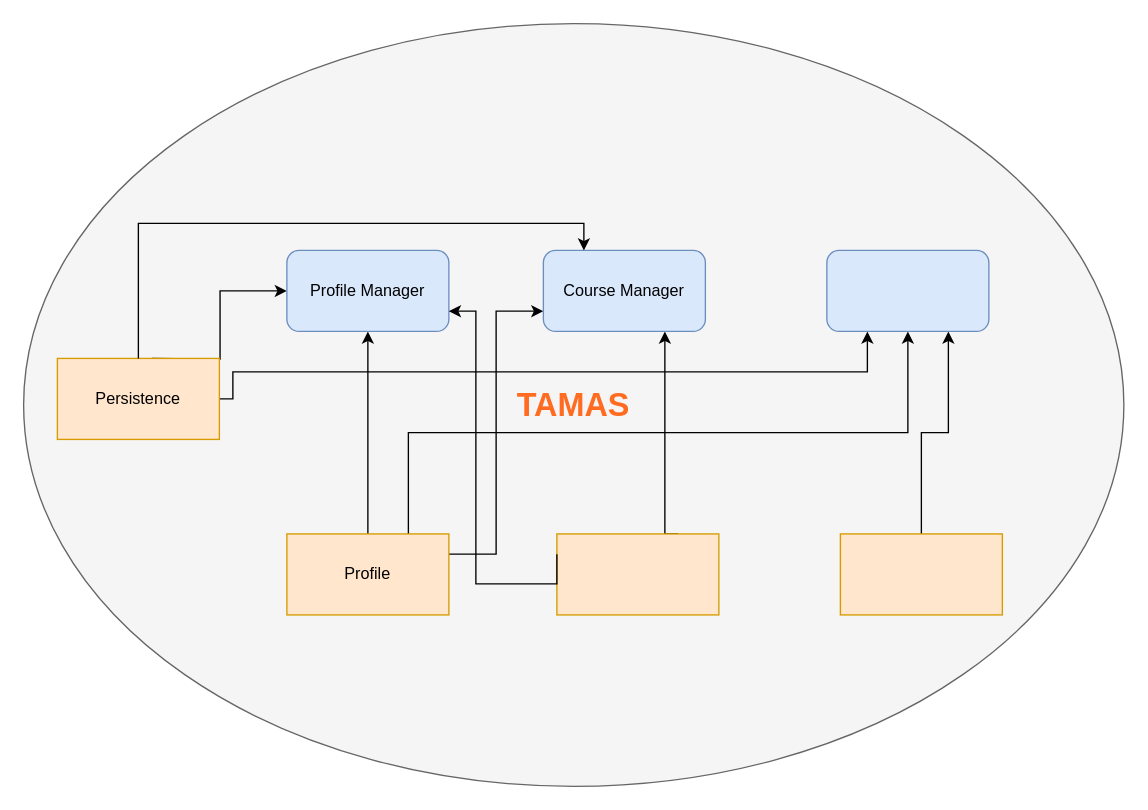
Image size: 1148x810. Some labels were removed from this diagram. The centre of each missing label's shape, as x and y in pixels:
Application Manager: point (907, 290)
Course: point (637, 574)
Job: point (920, 574)
